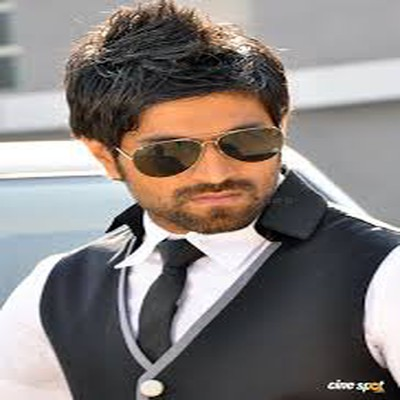eywear: (96, 97, 304, 197)
